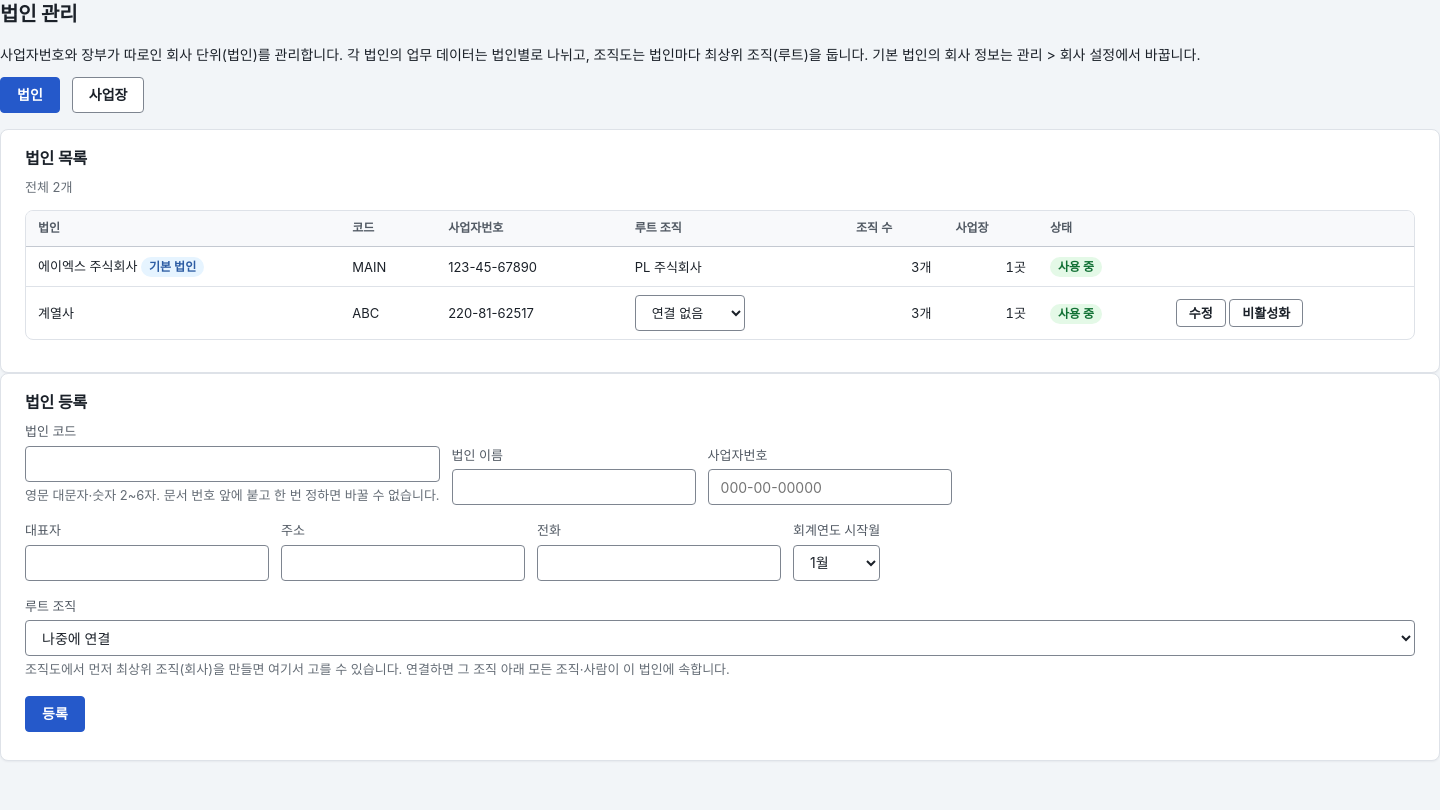
Test: 법인 관리 화면 › 서버 오류 문장을 그대로 보이고, 권한이 없으면 안내만 보인다
This screenshot has width=1440, height=810.
Expected: the text "에이엑스 주식회사" is shown, [38,258,137,274]
Type "ABC" into the field labelled "법인 코드". click: (232, 464)
box: [25,446,440,482]
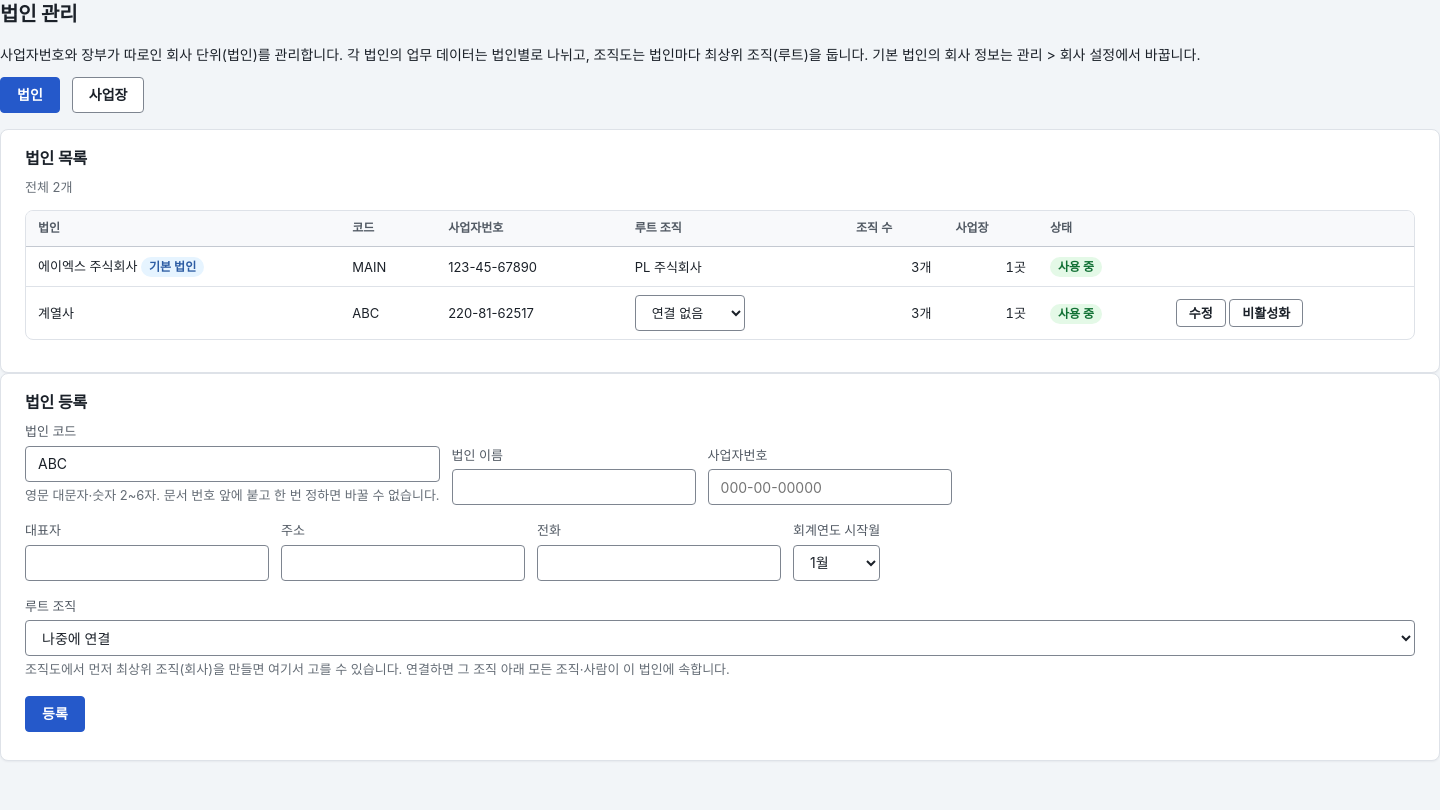
Type "x" into the field labelled "법인 이름". click: (574, 487)
box: [452,469,696,505]
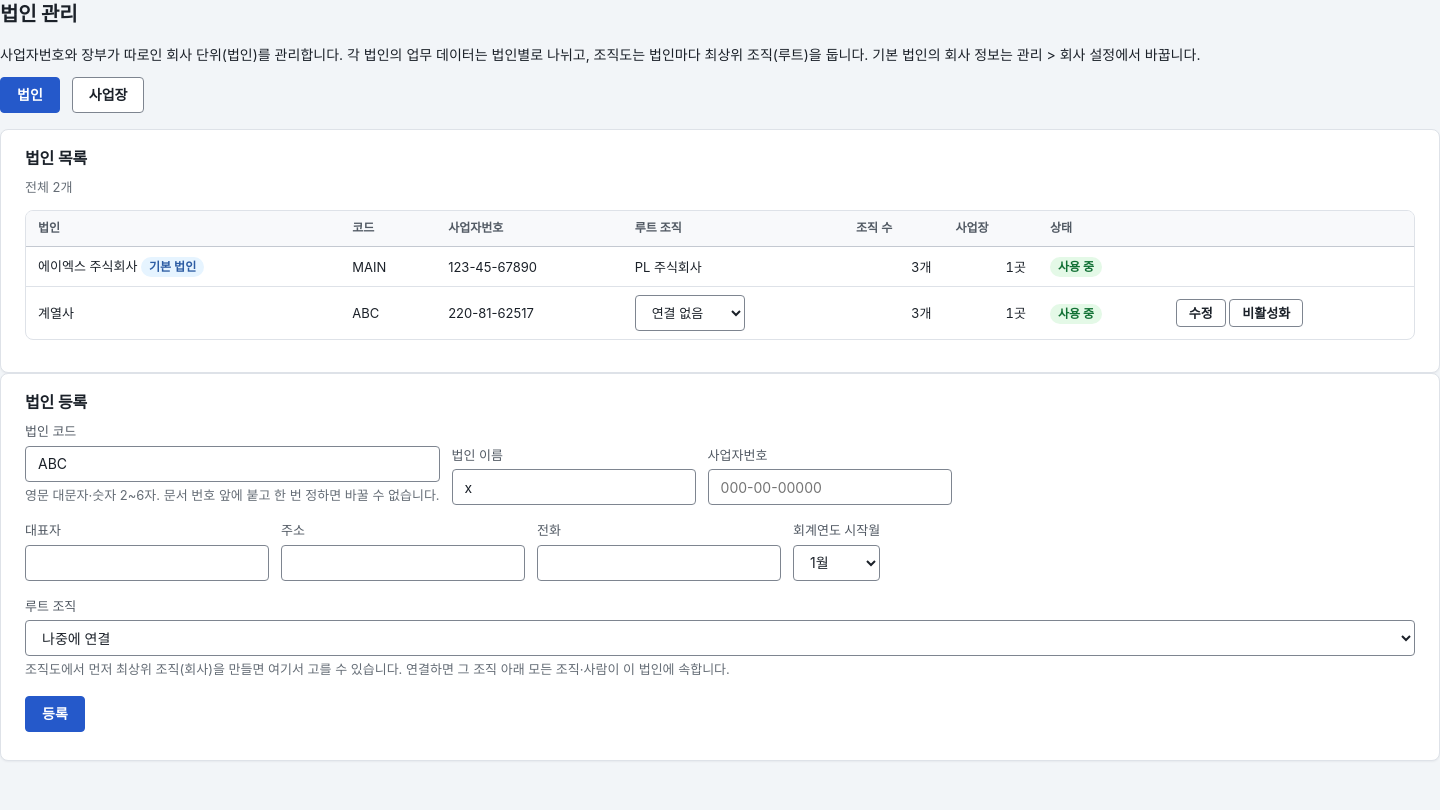
Click the button "등록". click: (55, 714)
box: [25,696,85,732]
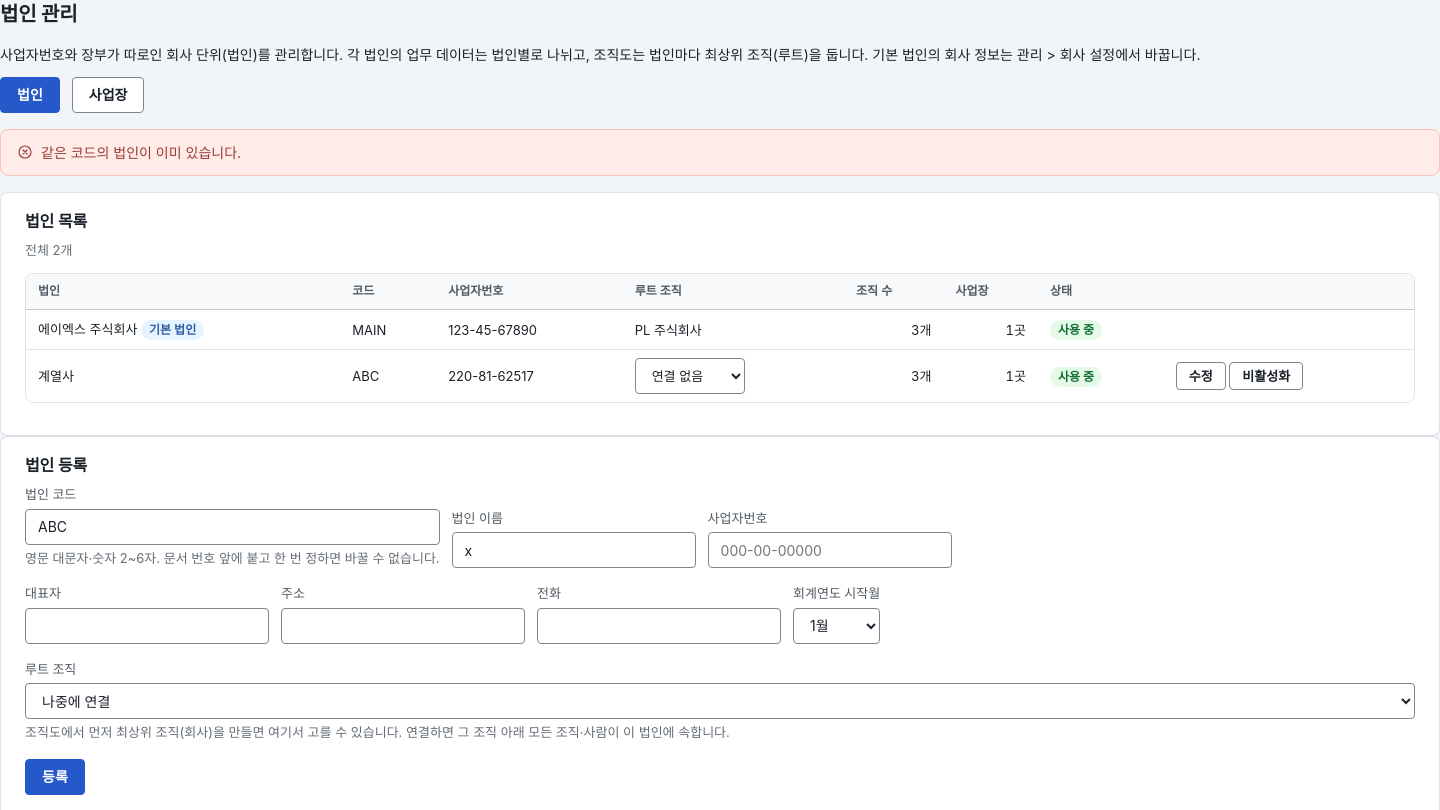
Expected: the text "같은 코드의 법인이 이미 있습니다." is shown, [41,142,241,163]
